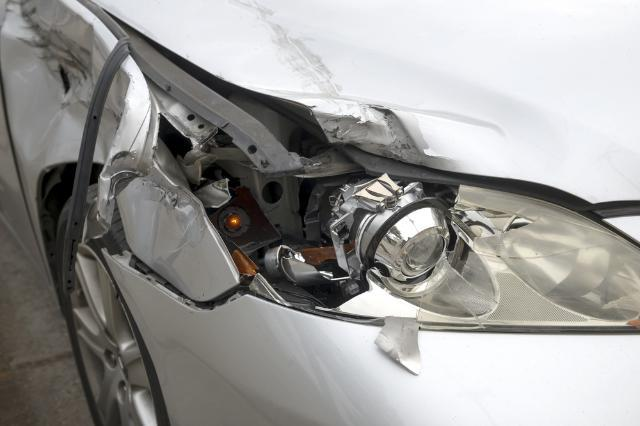dent: (232, 9, 535, 164), (0, 0, 92, 162), (123, 159, 199, 264)
dislocated part: (89, 4, 640, 220), (94, 233, 329, 426)
lamp broken: (203, 170, 640, 334)
